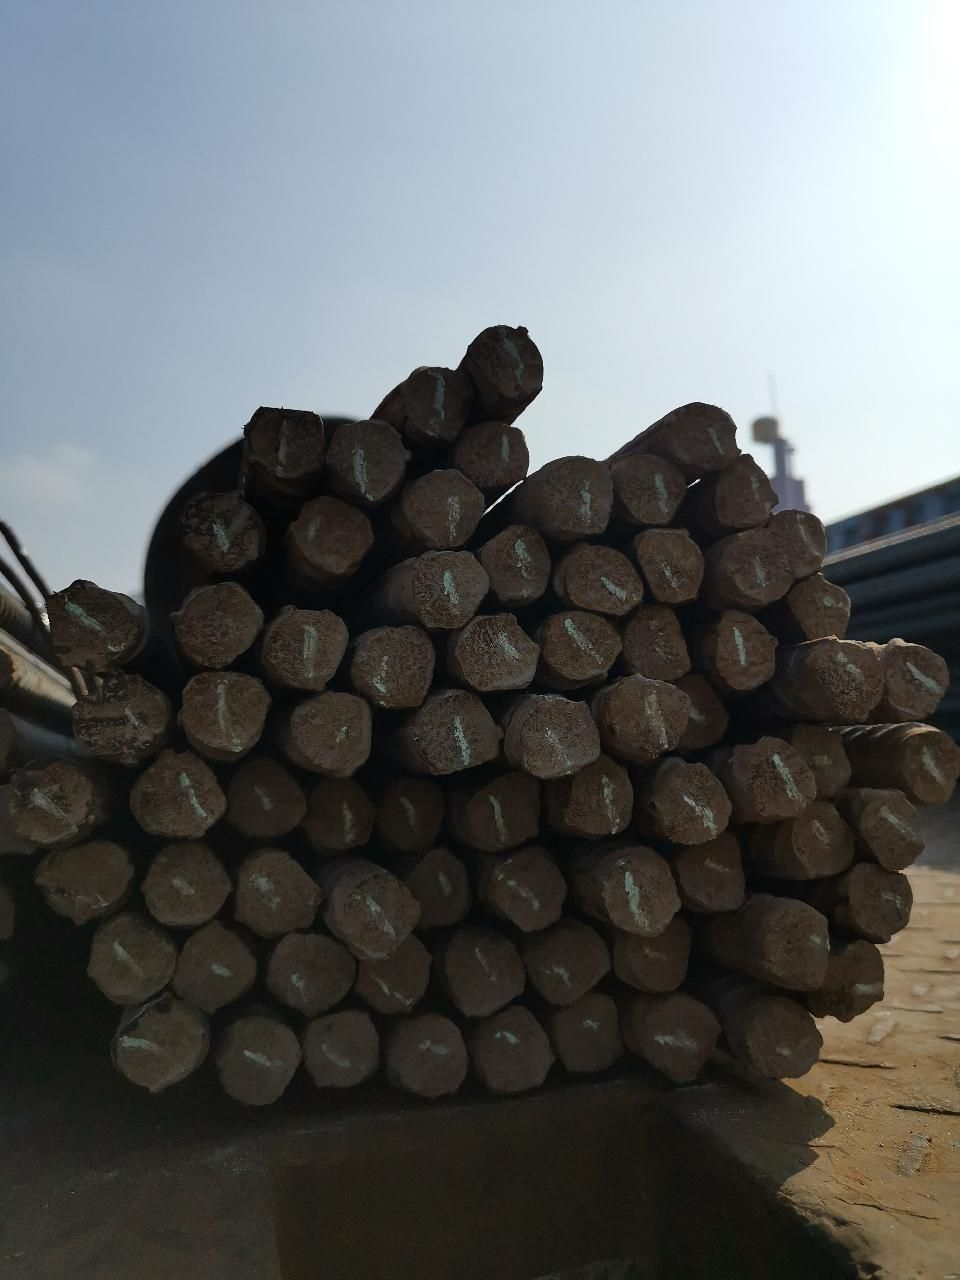rebar: (326, 859, 420, 962), (45, 576, 144, 673), (172, 473, 266, 574), (69, 673, 173, 763), (169, 577, 266, 673), (434, 924, 525, 1020), (131, 748, 228, 839), (609, 671, 707, 760), (36, 838, 134, 925), (116, 999, 206, 1093), (86, 914, 178, 1004), (508, 691, 603, 779), (632, 994, 723, 1084), (179, 665, 273, 753), (172, 921, 257, 1014), (230, 848, 319, 935), (290, 685, 376, 776), (141, 844, 232, 928), (270, 925, 354, 1017), (651, 756, 733, 850), (454, 609, 541, 694), (299, 1008, 384, 1096), (4, 761, 93, 845), (401, 463, 486, 549), (268, 604, 351, 692), (221, 1015, 301, 1106), (417, 692, 503, 776), (538, 457, 621, 543), (326, 415, 407, 503), (290, 496, 376, 579), (404, 546, 490, 629), (390, 1014, 471, 1102), (598, 857, 685, 937), (476, 1008, 556, 1096), (226, 757, 306, 844), (468, 319, 547, 407), (557, 541, 643, 619), (358, 624, 435, 712), (851, 785, 928, 872), (528, 924, 611, 1004), (742, 1004, 828, 1079), (743, 733, 818, 817), (458, 771, 541, 847), (494, 850, 569, 933), (761, 900, 833, 987), (544, 606, 623, 683), (245, 404, 326, 481), (886, 631, 953, 722), (817, 939, 886, 1026), (711, 609, 780, 694), (634, 524, 707, 606), (816, 633, 882, 722), (553, 997, 629, 1073), (565, 758, 637, 839), (400, 363, 473, 442), (890, 724, 958, 808), (485, 523, 555, 604), (708, 449, 781, 525), (846, 865, 916, 944), (303, 779, 374, 856), (409, 850, 479, 928), (465, 416, 533, 496), (670, 397, 743, 471), (371, 775, 446, 848), (620, 606, 691, 682), (618, 450, 688, 525), (724, 525, 792, 603), (357, 944, 431, 1014), (785, 801, 849, 879), (612, 936, 690, 997), (687, 841, 749, 911), (789, 575, 854, 639), (770, 508, 829, 577), (805, 727, 850, 795)
